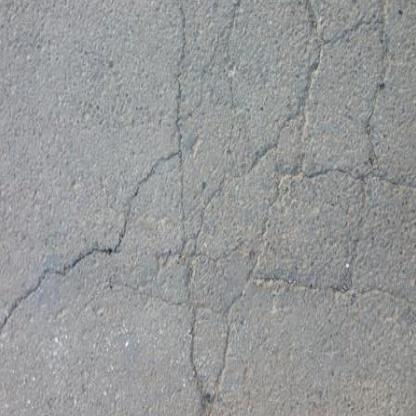Cracks: (195, 248, 416, 416), (280, 0, 416, 200), (0, 222, 138, 393), (76, 101, 197, 293), (165, 0, 215, 416), (212, 0, 283, 225), (325, 167, 392, 334)
